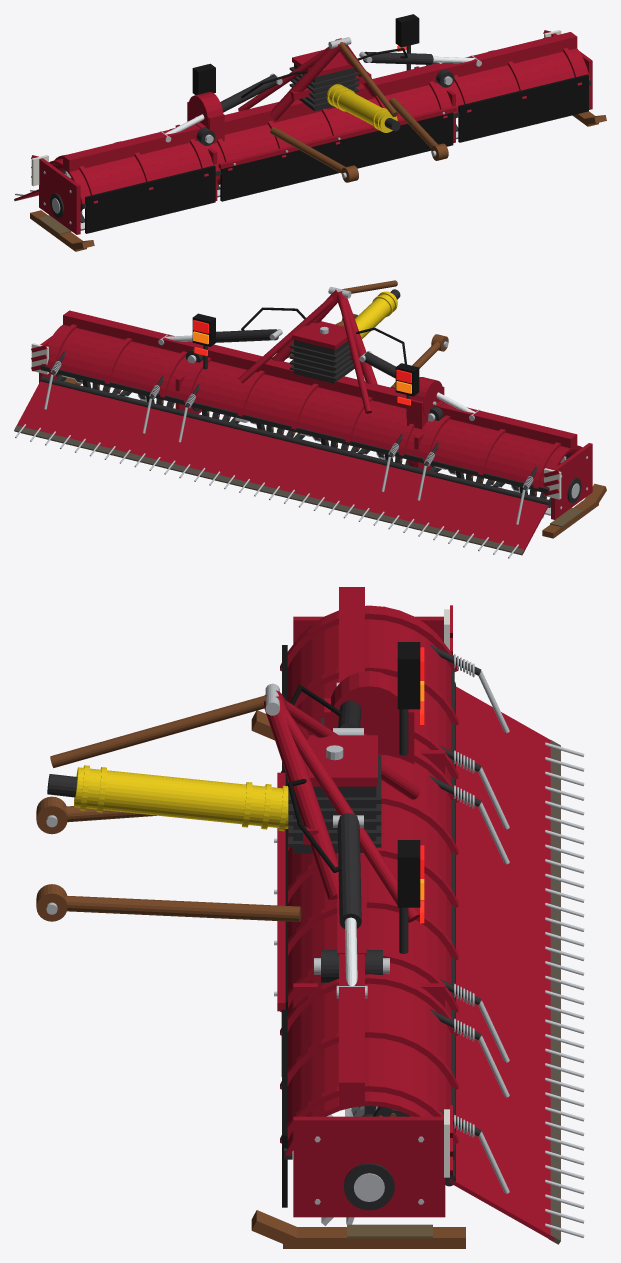
The model's file is harrow_v2.glb.
The picture shows the model from 3 angles, top to bottom: view 1: azimuth 30°, elevation 25°; view 2: azimuth 150°, elevation 25°; view 3: azimuth 270°, elevation 25°; orthographic projection. The views are drawn at different scales.
Parts seen in each view (by area): view 1: Rotary, WingR, WingL; view 2: Rotary, WingR, WingL, Flap, Rotor, RotorR, RotorL; view 3: Rotary, WingL, WingR, Flap.
Part boxes in pixels (left/top/right/bottom): Rotary: left=160, top=14, right=481, bottom=201; WingR: left=14, top=124, right=217, bottom=251; WingL: left=440, top=30, right=606, bottom=142; Rotary: left=158, top=280, right=480, bottom=471; WingR: left=387, top=402, right=606, bottom=558; WingL: left=14, top=310, right=197, bottom=467; Flap: left=148, top=384, right=415, bottom=525; Rotor: left=202, top=409, right=409, bottom=465; RotorR: left=429, top=456, right=566, bottom=518; RotorL: left=56, top=375, right=174, bottom=407; Rotary: left=36, top=642, right=458, bottom=1076; WingL: left=251, top=954, right=584, bottom=1248; WingR: left=251, top=587, right=584, bottom=876; Flap: left=430, top=776, right=584, bottom=1109.
Bounding box in the file's own units: 3.53 × 0.9737 × 1.59.
